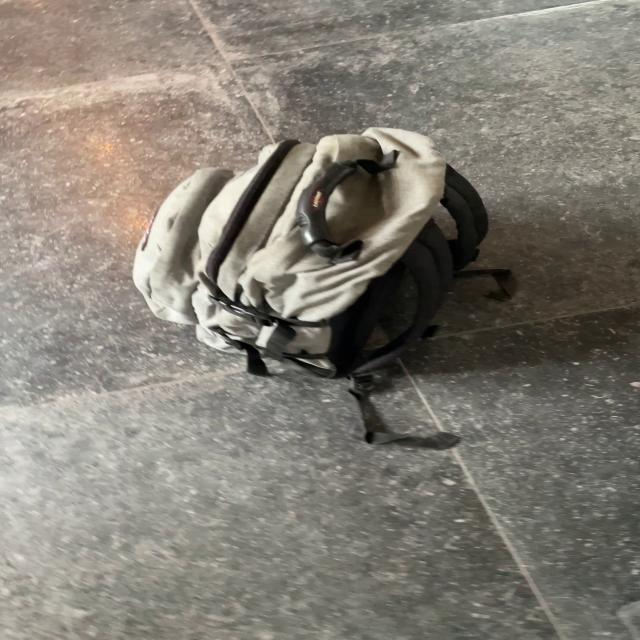backpack: (123, 119, 498, 378)
